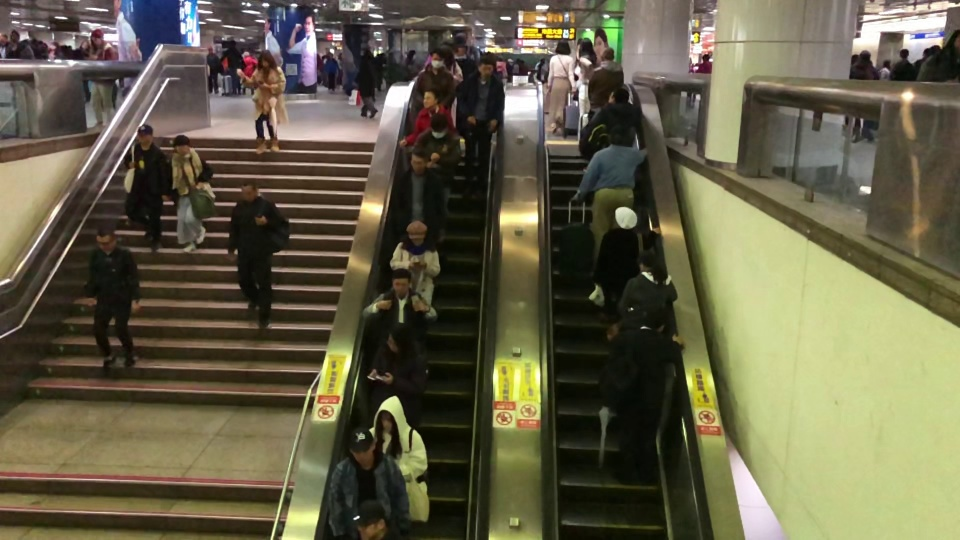person_head: (373, 395, 406, 436), (354, 501, 386, 540), (346, 428, 377, 468), (384, 322, 413, 355), (640, 302, 666, 334), (607, 121, 636, 148), (389, 268, 412, 298), (614, 205, 638, 231), (405, 219, 427, 247), (407, 148, 429, 175), (427, 112, 449, 139), (94, 224, 116, 250), (635, 249, 657, 273), (606, 86, 629, 106), (478, 51, 496, 76), (171, 134, 190, 156), (239, 182, 258, 203), (422, 88, 440, 108), (553, 38, 571, 55), (137, 125, 153, 143), (437, 44, 453, 61), (578, 37, 593, 54), (430, 50, 444, 68), (949, 29, 960, 51), (599, 46, 615, 61), (90, 28, 104, 45), (857, 49, 872, 64), (259, 49, 271, 65), (455, 44, 468, 57), (929, 44, 941, 57), (9, 30, 20, 44), (898, 48, 909, 60), (80, 38, 90, 50), (362, 47, 372, 58), (49, 40, 59, 51), (407, 50, 416, 62), (882, 58, 891, 69), (851, 53, 859, 65), (701, 53, 710, 63), (228, 39, 236, 50), (921, 47, 929, 58), (0, 32, 7, 43), (111, 44, 118, 54), (506, 58, 513, 67), (241, 50, 249, 57), (207, 46, 213, 54), (539, 57, 545, 65), (515, 57, 521, 65), (337, 53, 342, 61), (328, 52, 334, 58), (497, 56, 503, 62), (519, 59, 525, 65), (689, 57, 692, 65)
person_vbox: (595, 302, 684, 488), (576, 121, 648, 275), (224, 182, 291, 331), (326, 428, 410, 540), (591, 205, 662, 324), (85, 224, 143, 368), (454, 51, 505, 203), (363, 322, 428, 428), (123, 125, 171, 254), (166, 134, 216, 255), (389, 148, 446, 245), (409, 112, 462, 216), (237, 49, 288, 155), (368, 395, 428, 481), (616, 249, 678, 330), (361, 268, 438, 333), (388, 219, 440, 305), (589, 86, 642, 151), (84, 27, 118, 127), (399, 88, 453, 150), (546, 38, 575, 139), (848, 49, 879, 143), (587, 46, 624, 117), (416, 50, 456, 107), (437, 44, 464, 128), (352, 47, 378, 118), (930, 29, 960, 83), (577, 37, 597, 117), (219, 39, 246, 96), (73, 38, 90, 104), (888, 48, 918, 81), (205, 46, 224, 96), (916, 45, 941, 82), (6, 30, 34, 60), (241, 50, 259, 95), (455, 43, 476, 80), (323, 52, 339, 92), (109, 44, 118, 111), (401, 50, 419, 77), (45, 40, 66, 60), (687, 56, 695, 104), (913, 47, 929, 70), (695, 53, 712, 73), (878, 58, 891, 81), (536, 57, 548, 81), (496, 55, 507, 79), (316, 52, 324, 85), (504, 58, 513, 82), (510, 57, 521, 75), (336, 53, 342, 86), (0, 32, 6, 58), (519, 58, 528, 75)
